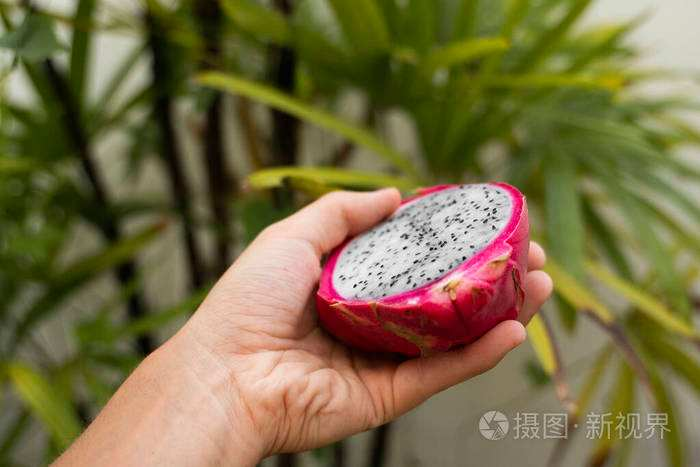no-phone: (162, 176, 557, 462)
